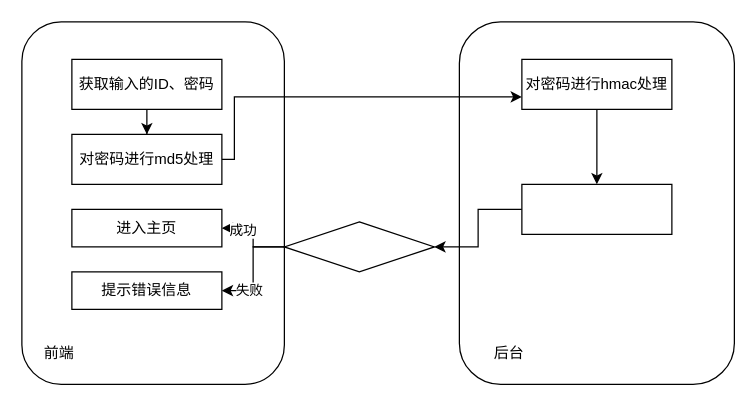
The diagram is 756 pixels wide and 406 high, and some of its shapes have lost their labels. Each missing label, with the centre of its shape:
"在数据库中查找对应信息" goes at [596,208].
"返回的信息类型" goes at [358,246].
